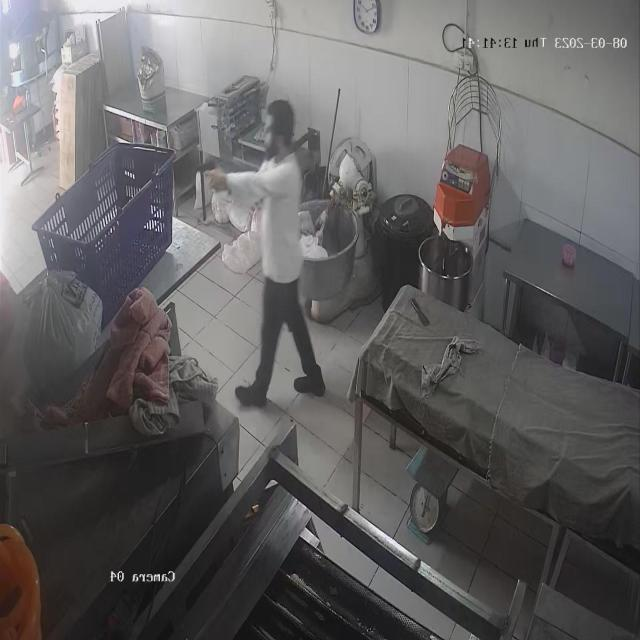Gun: (188, 146, 238, 192)
